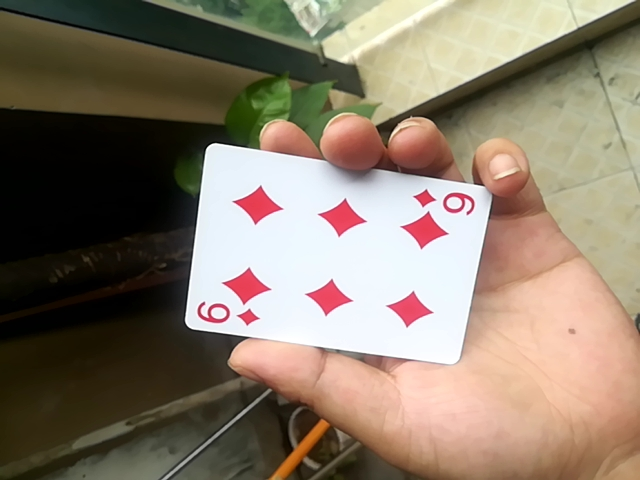fk 6: (175, 139, 493, 365)
